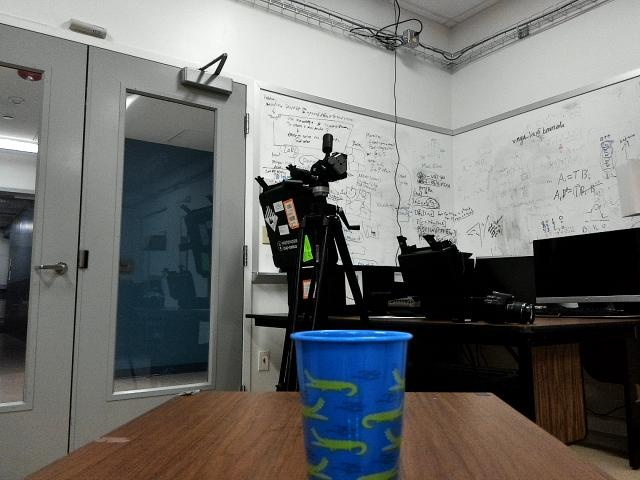water_cup: (287, 320, 416, 480)
